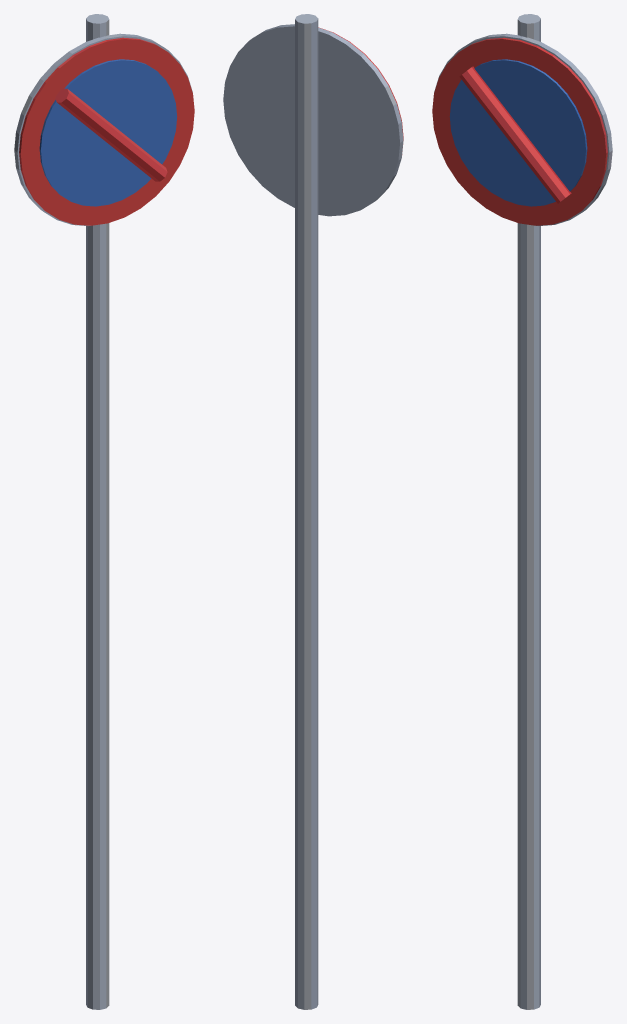
The model's file is HK_Sign_NoParking.glb.
The picture shows the model from 3 angles, left to right: view 1: azimuth 30°, elevation 25°; view 2: azimuth 150°, elevation 25°; view 3: azimuth 330°, elevation 25°; orthographic projection.
Visible parts, largest first — view 1: HK_Sign_NoParking; view 2: HK_Sign_NoParking; view 3: HK_Sign_NoParking.
Boxes of the visible parts, x1,y1,x2,y2 form: HK_Sign_NoParking: (14,14,194,1009); HK_Sign_NoParking: (223,14,403,1009); HK_Sign_NoParking: (432,14,612,1009).
Size of the model in its own units: 0.61 by 3.25 by 0.1413.
